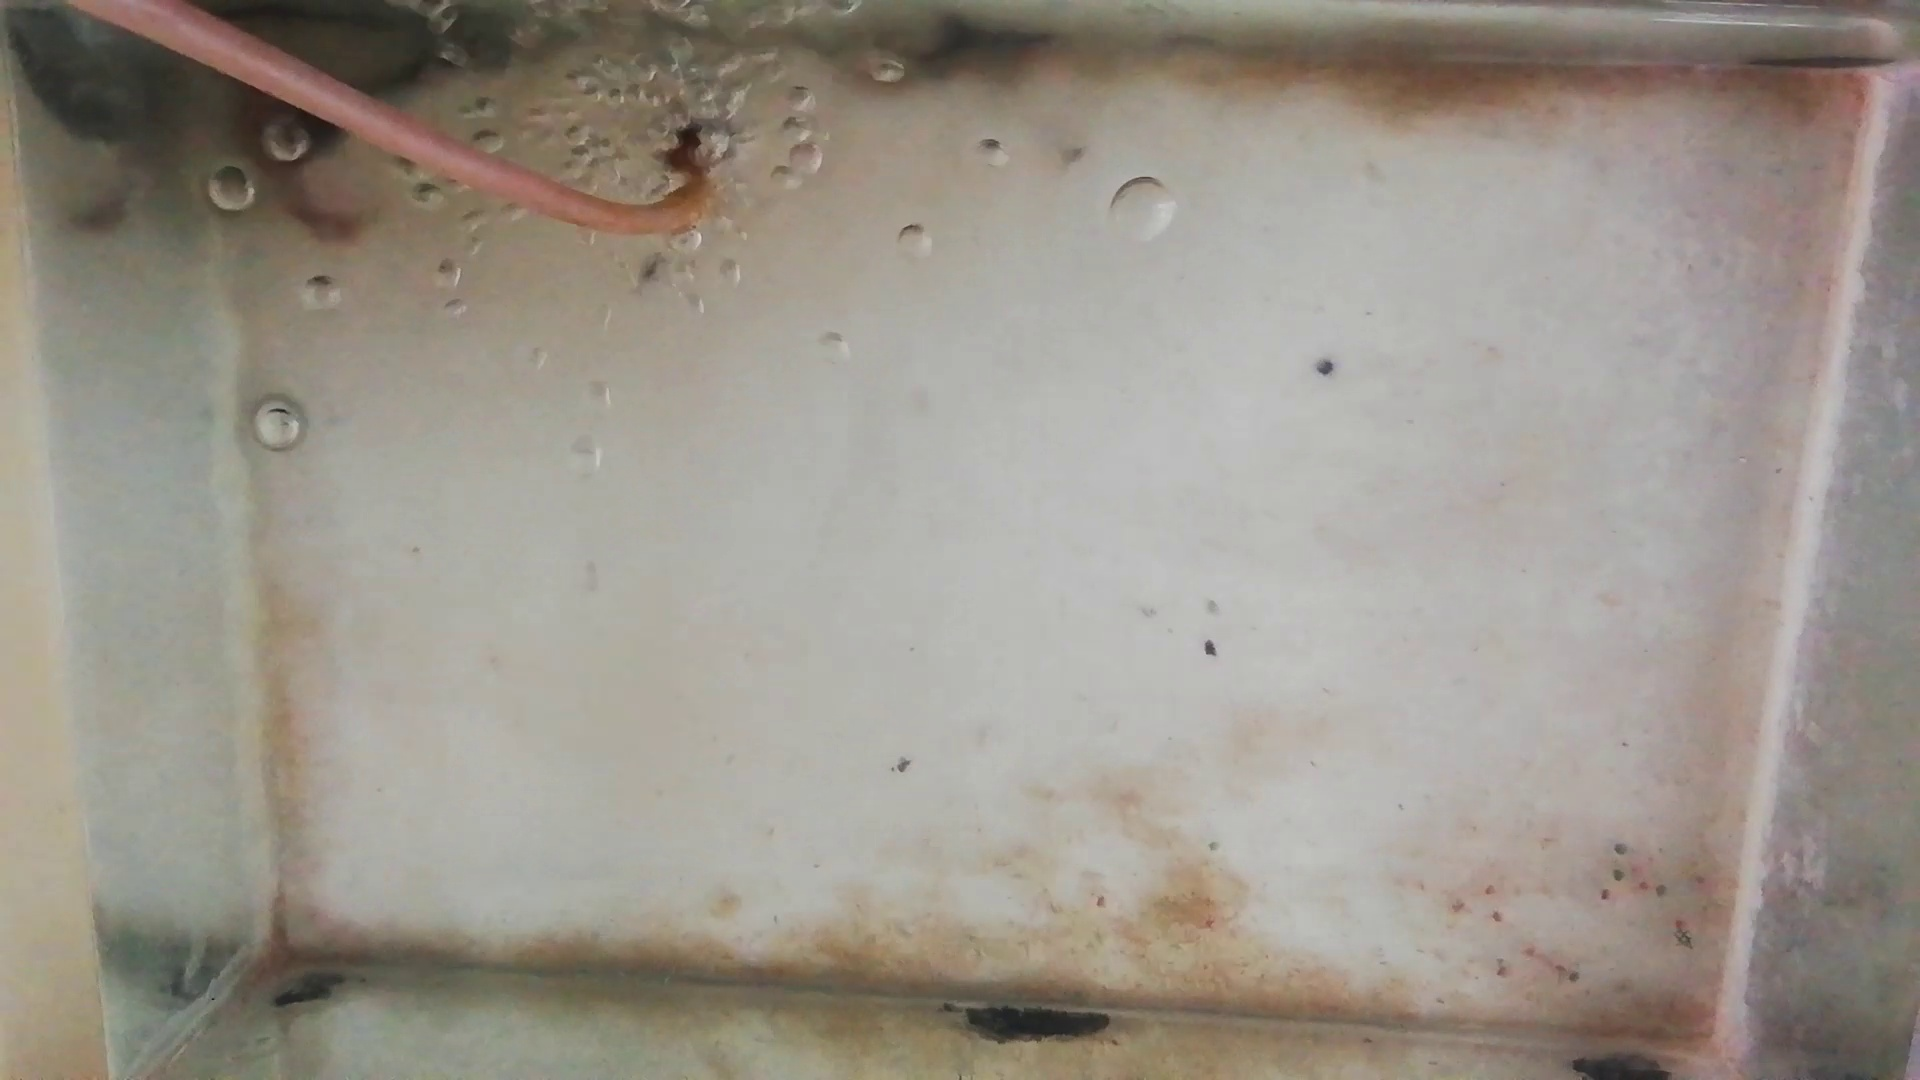fish: (231, 79, 352, 245), (269, 66, 422, 167)
